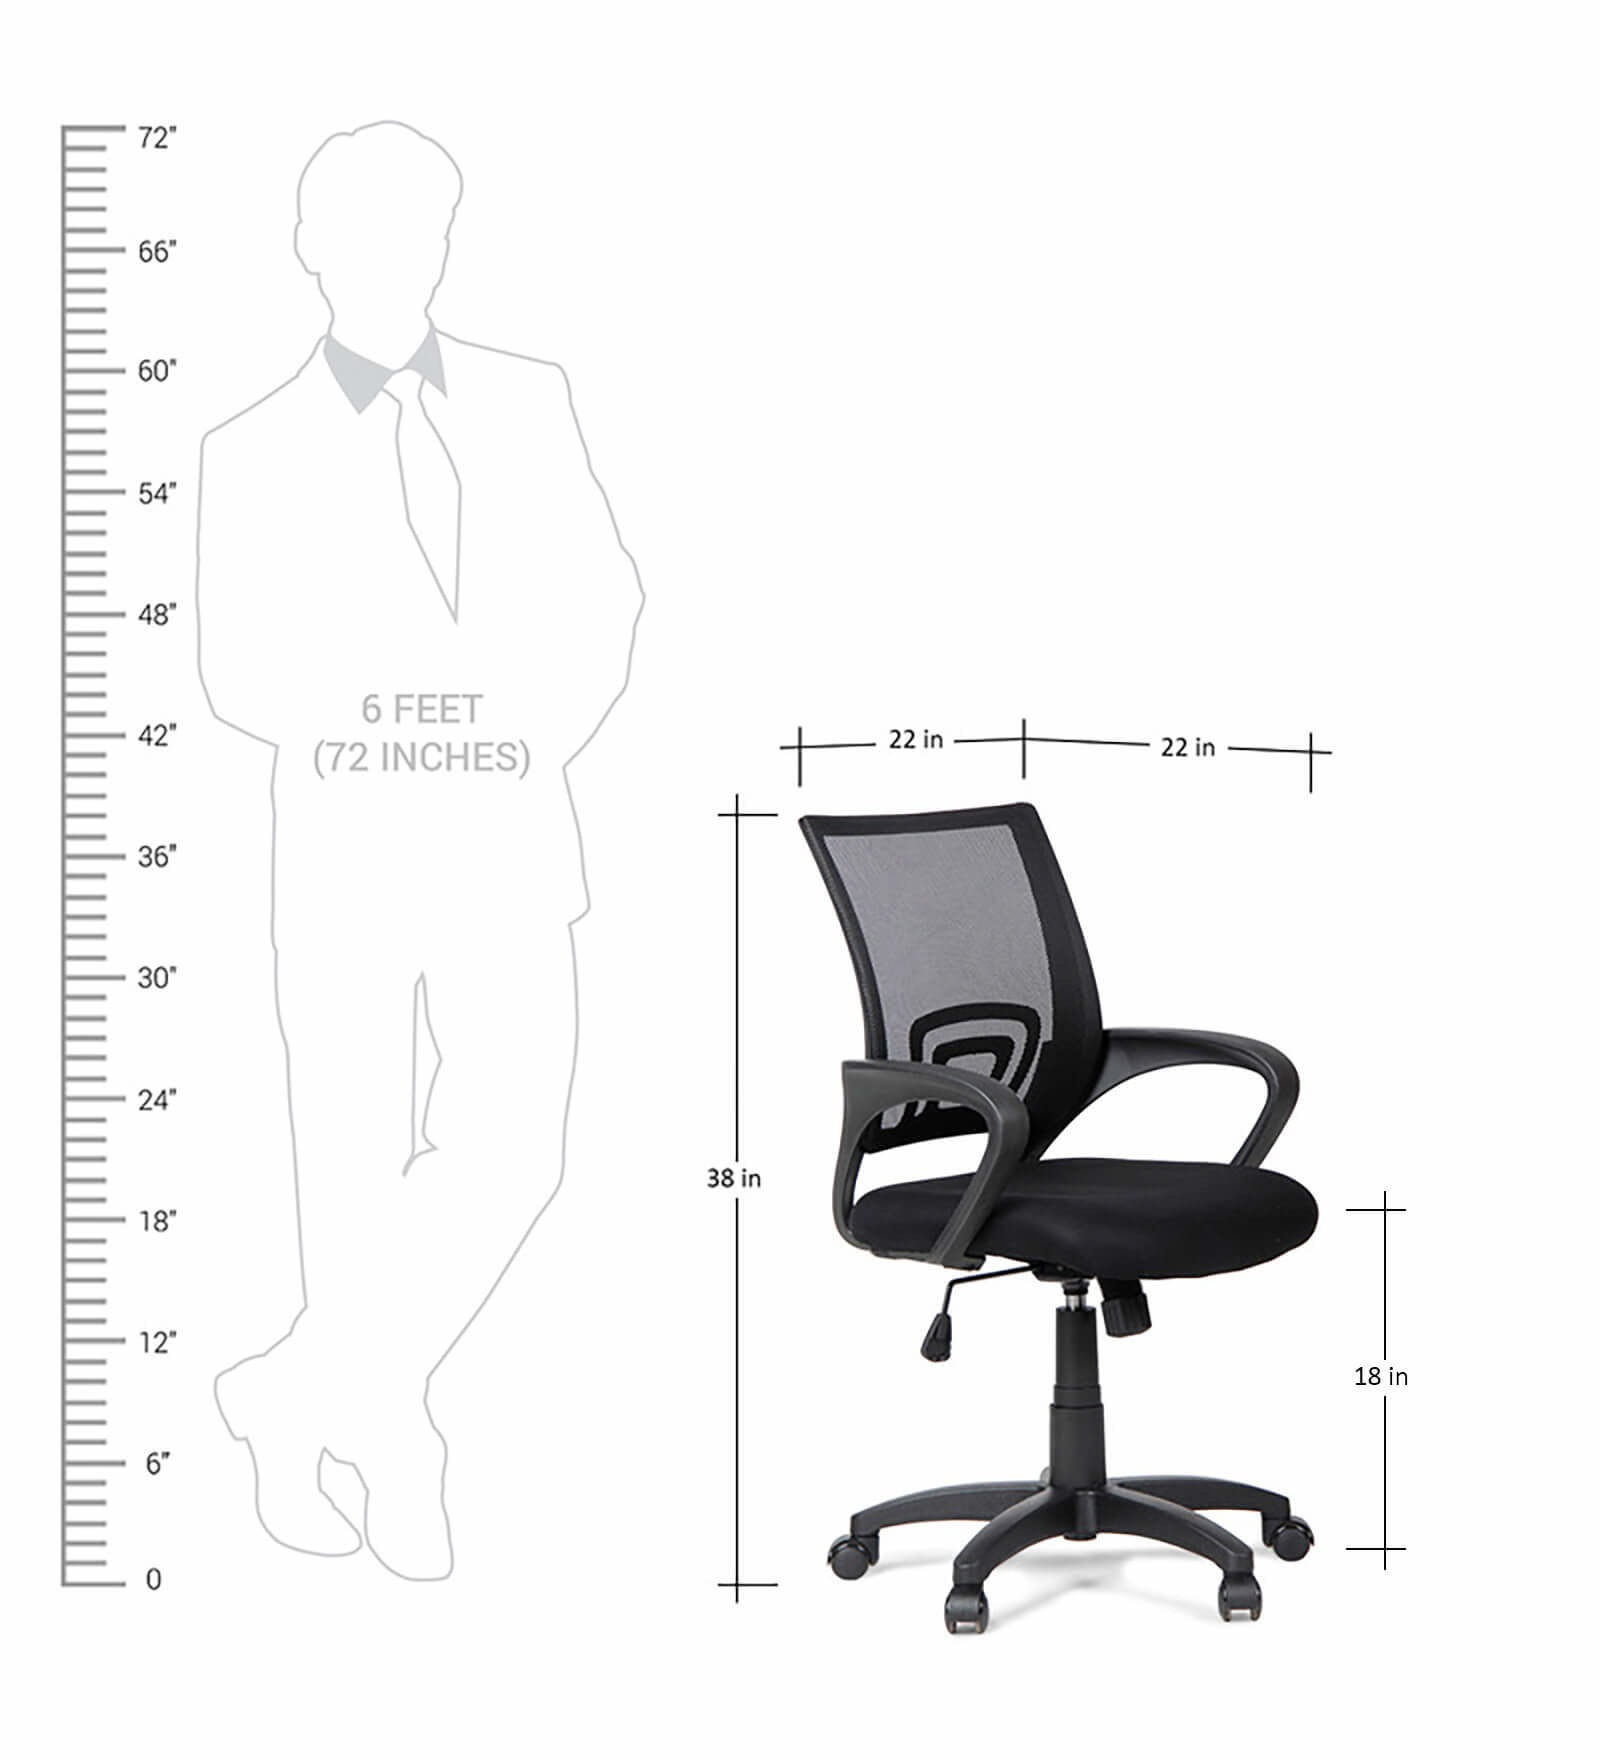Regus Low Back Mesh Chair in Green Colour by Hometown: (763, 780, 1359, 1660)
